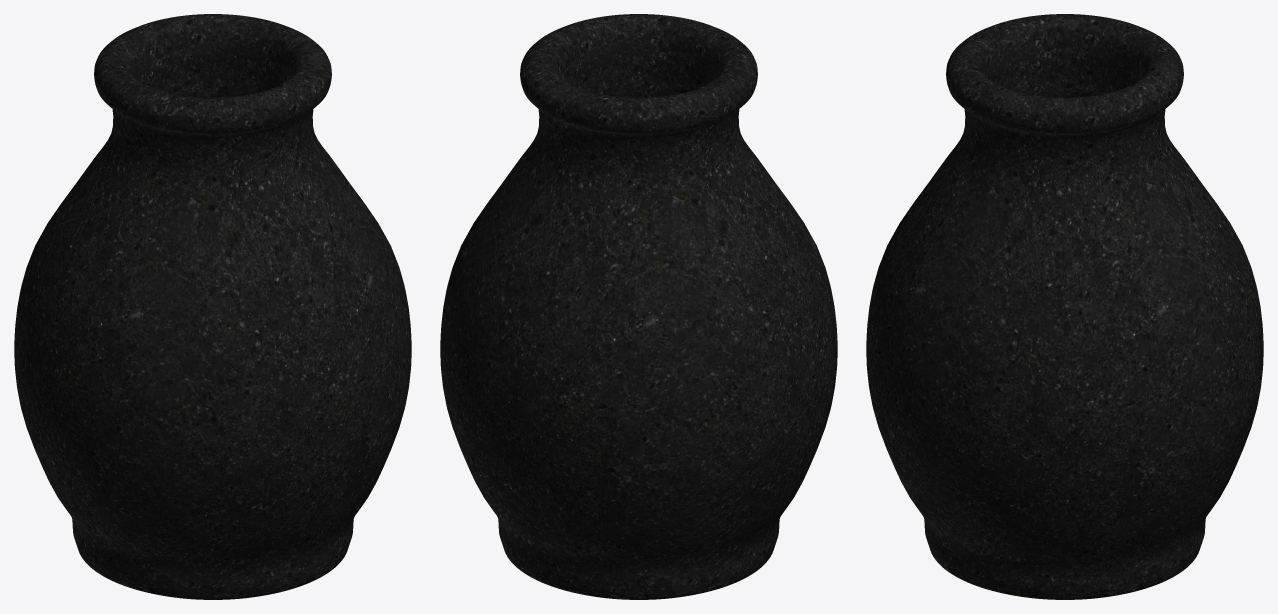
The model's file is vase-small-black.glb.
3 renders of one model, left to right at view 1: azimuth 30°, elevation 25°; view 2: azimuth 150°, elevation 25°; view 3: azimuth 270°, elevation 25°, orthographic.
Visible parts, largest first — view 1: vase-small-black; view 2: vase-small-black; view 3: vase-small-black.
Part boxes in pixels (x1,y1,x2,y2): vase-small-black: (14, 14, 411, 599); vase-small-black: (440, 14, 837, 599); vase-small-black: (866, 14, 1263, 599).
Bounding box in the file's own units: 0.0167 × 0.0226 × 0.0167.
Materials: 1 (1 with a texture image).
